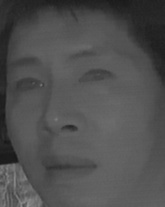eye: (78, 65, 119, 88), (12, 74, 48, 96)
mouth: (38, 150, 99, 185)
